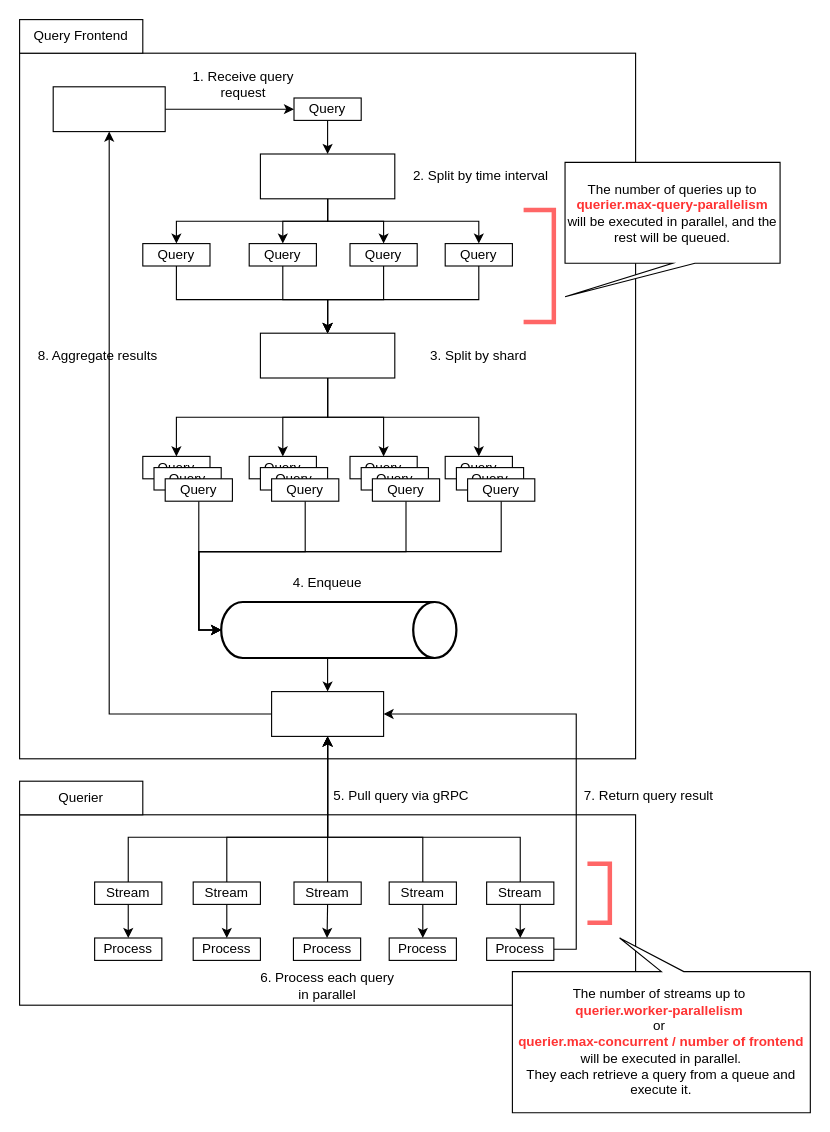
Some shapes in this 830 by 1132 pixel diagram are drawn without their labels. Here are the shapes that lost their labels. From the top down, the centre of each, then its label:
pixel 108 109: HTTP Server
pixel 327 176: time interval splitter
pixel 327 355: shard splitter
pixel 338 629: Request Queue
pixel 327 713: gRPC Server
